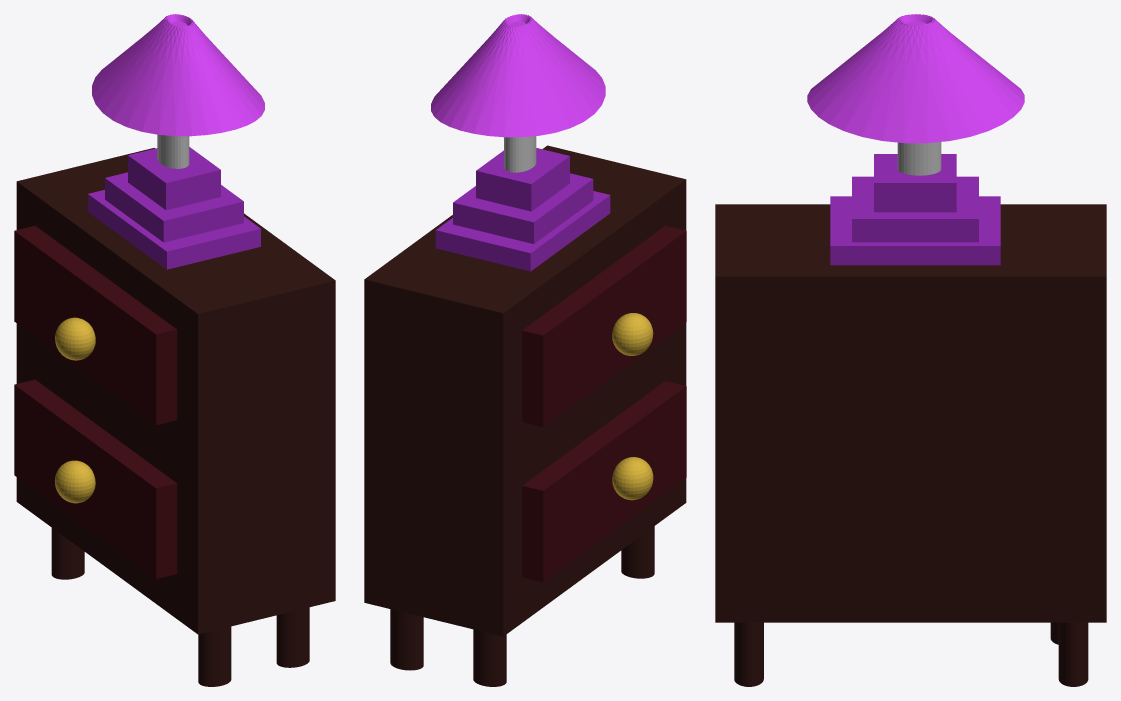
The model's file is lamp_purple.fbx.
3 views of the same model, side by side, from view 1: azimuth 30°, elevation 25°; view 2: azimuth 150°, elevation 25°; view 3: azimuth 270°, elevation 25° (orthographic). The views are drawn at different scales.
Visible parts, largest first — view 1: Cube.011; view 2: Cube.011; view 3: Cube.011.
Part boxes in pixels (x1,y1,x2,y2): Cube.011: (14, 14, 335, 686); Cube.011: (364, 14, 686, 686); Cube.011: (715, 14, 1106, 686).
Bounding box in the file's own units: 1.28 × 3.7 × 2.05.
